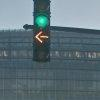Traffic light: (26, 9, 56, 69)
